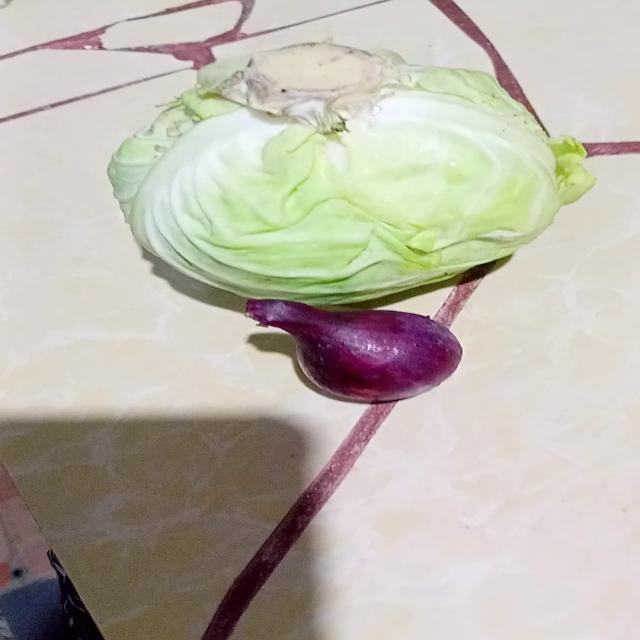cabbage: (106, 42, 599, 309)
onion: (244, 299, 464, 408)
